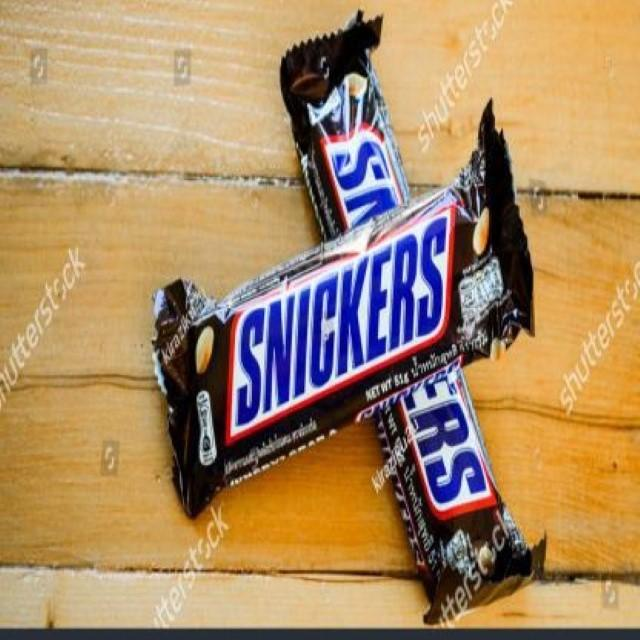snickers_chocolate: (277, 25, 537, 605), (145, 140, 537, 520)
